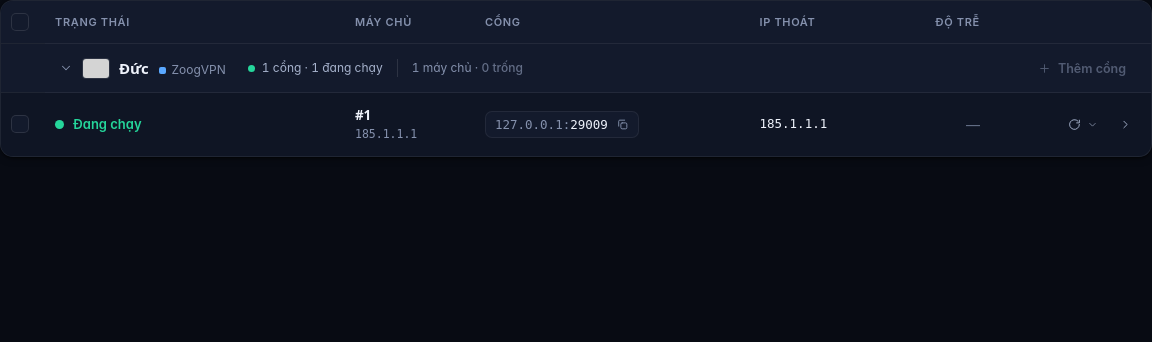
Test: PortTable › grouped by location (spec §4.1) › a country-wide location is headed by the localised country, once ("Đức", not "Germany Đức")
expect the row with test id "group-zoogvpn:DE" shows "Đức": met, box top-left (57, 54), bottom-right (234, 82)
expect the row with test id "group-zoogvpn:DE" does not show "Germany": met, box top-left (1, 44), bottom-right (1151, 92)
What coordinates should you click on to do the following:
click the button with test id "change-ip-zoogvpn:DE#1"
I would click on:
 (1084, 124)
Its box is top-left (1059, 109), bottom-right (1108, 139).
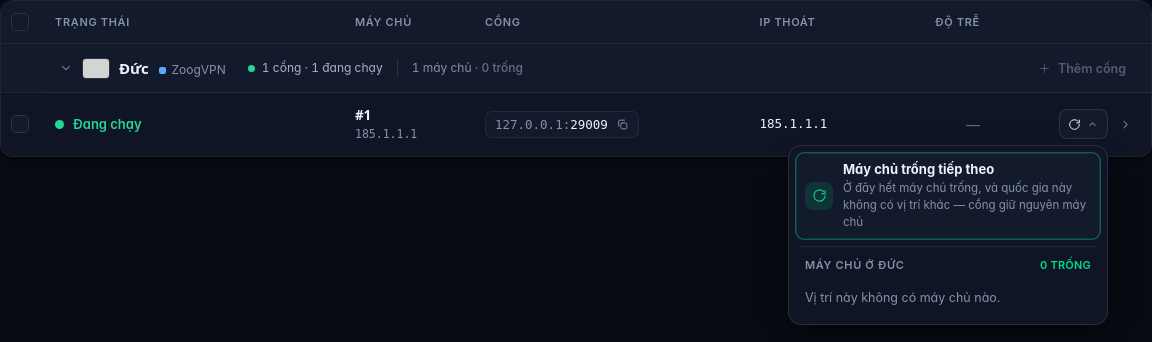
expect the text "Máy chủ ở Đức" is shown: met, box top-left (805, 256), bottom-right (904, 273)
